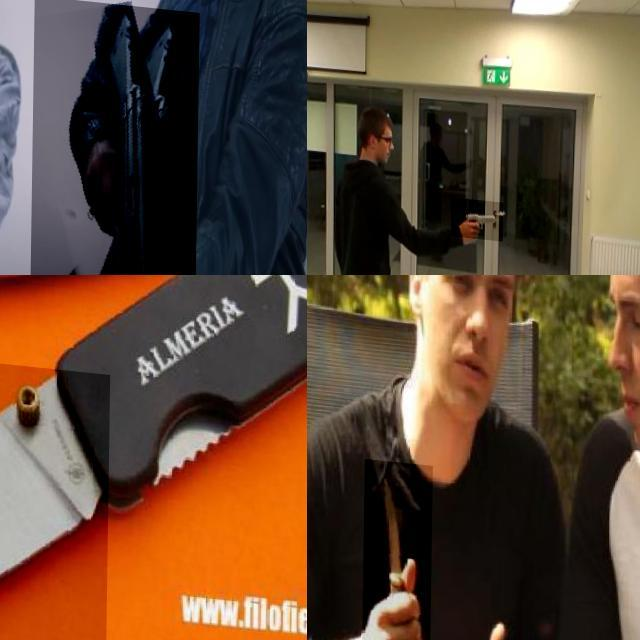-: (0, 342, 156, 640), (363, 456, 433, 640)
gun-knife-thesis - v11 Yolov5 augmented: (31, 0, 200, 275), (0, 90, 31, 257), (0, 150, 24, 275), (452, 189, 504, 231)
